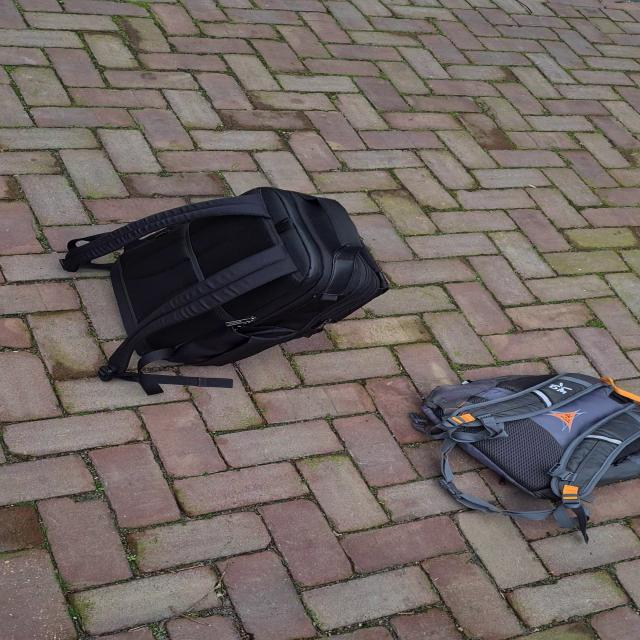backpack: (88, 178, 397, 371), (400, 368, 640, 504)
